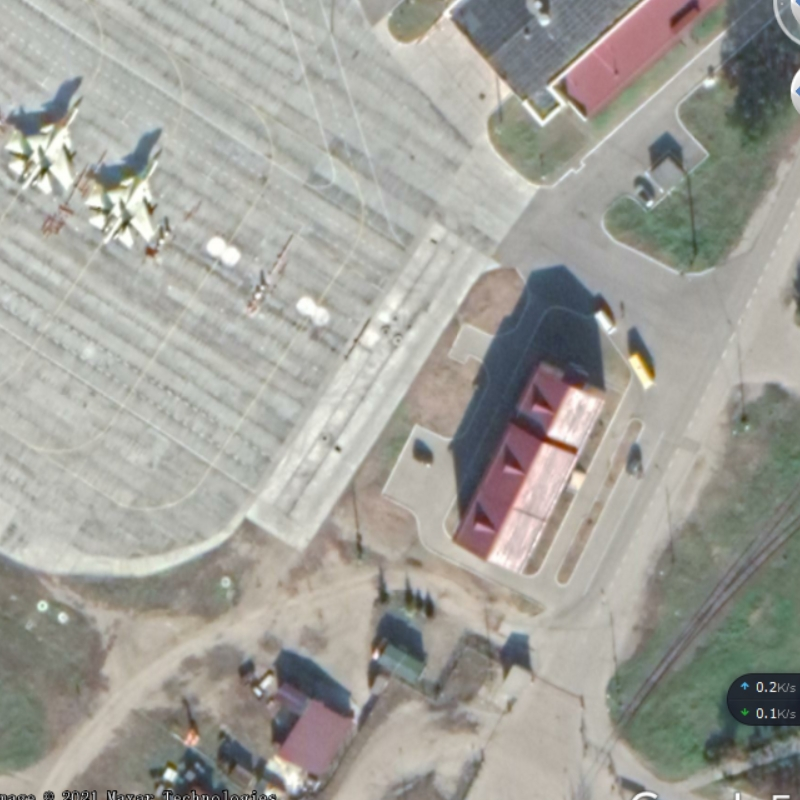A19: (80, 144, 169, 251), (3, 92, 87, 197)
